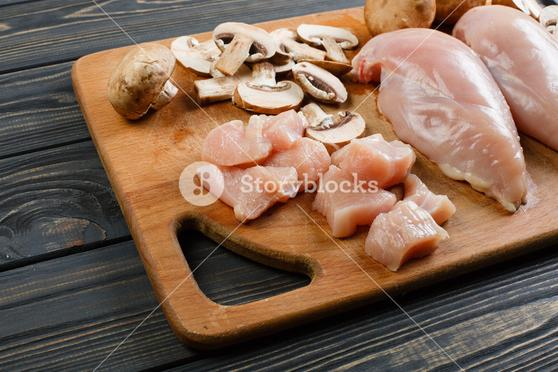chicken_fillet: (356, 15, 541, 227), (459, 7, 558, 147)
